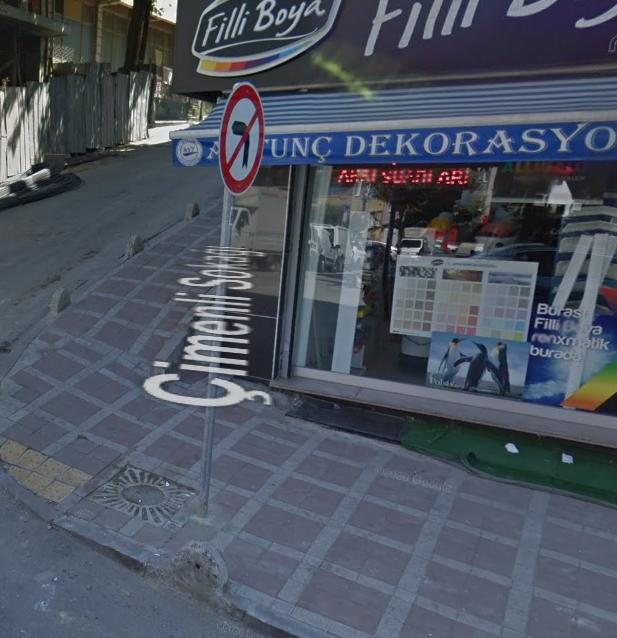leftturnsareforbidden: (218, 82, 264, 194)
